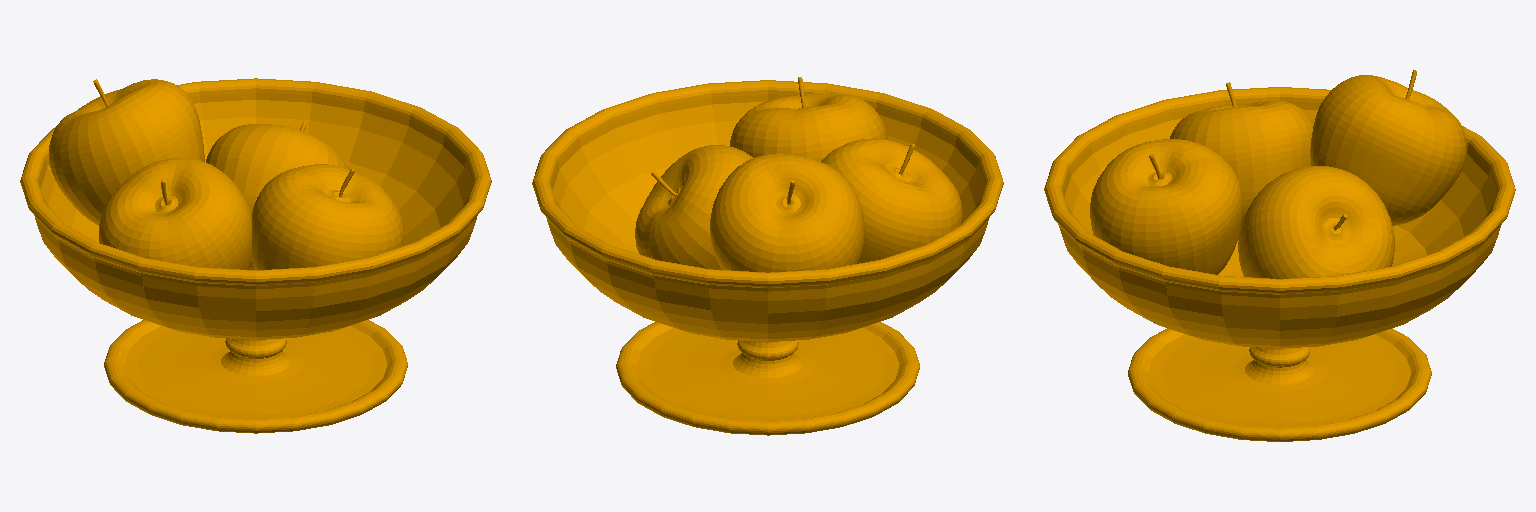
URDF robot description (none):
<robot name="none">
       <link name="none">
           <visual>
               <origin rpy="1.57 0 0" xyz="0 0 0" />
               <geometry>
                   <mesh filename="apples.obj" />
               </geometry>
           </visual>
          <collision>
              <geometry>
                  <box size="1.000000 0.622525 1.000000" />
              </geometry>
          </collision>

          <inertial>
            <mass value="0.0" />
            <inertia ixx="0.0" ixy="0.0" ixz="0.0" iyy="0.0" iyz="0.0" izz="0.0" />
          </inertial>
      </link>
  </robot>

--- Render facts (derived) ---
Views: 3 orthographic renders of the robot side by side, from view 1: azimuth 30°, elevation 25°; view 2: azimuth 150°, elevation 25°; view 3: azimuth 270°, elevation 25°.
Robot: none — 1 links, 0 joints (none); root link none; default pose: every joint at zero.
Links seen in each view (by area): view 1: none; view 2: none; view 3: none.
Boxes of the visible links, x1,y1,x2,y2 form: none: (20,78,491,433); none: (532,77,1003,435); none: (1044,70,1515,441).
Bounding box of the posed robot: 1 × 1 × 0.6225 m (x, y, z).
Meshes: 1 distinct files referenced, 1 mesh visuals loaded (1 OBJ).